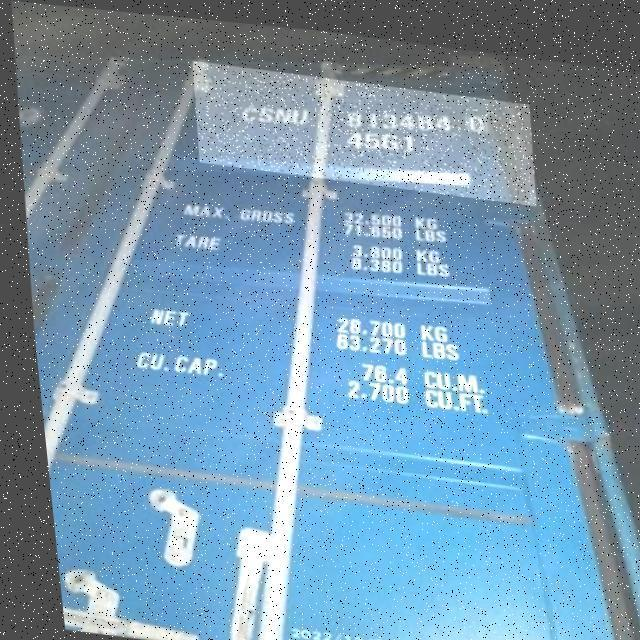container_number_h: (187, 56, 536, 196)
